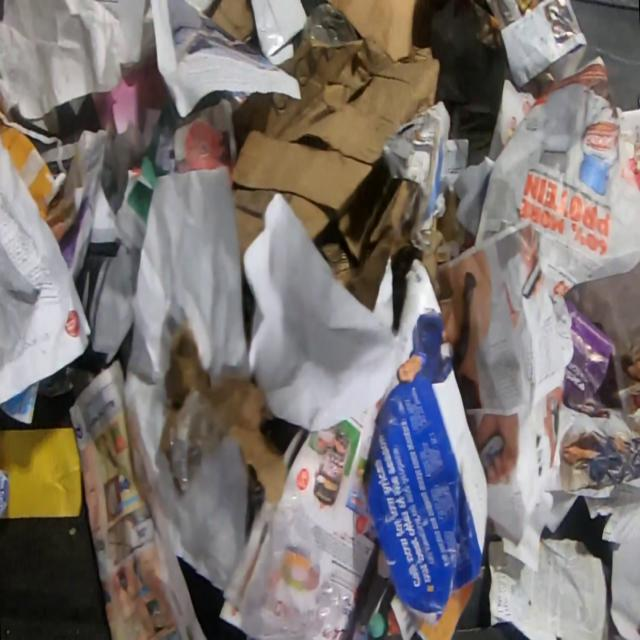cardboard: (228, 39, 442, 314), (160, 322, 290, 499), (329, 0, 416, 63), (210, 0, 256, 45)
rigid_plastic: (300, 3, 360, 47)
soft_plastic: (150, 386, 353, 639)
